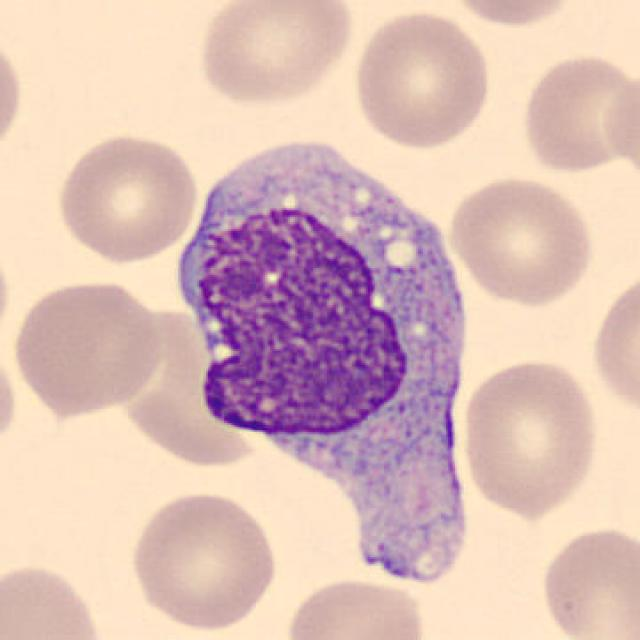Monocyte: (167, 114, 482, 554)
RBC: (457, 354, 603, 520), (7, 275, 167, 420), (124, 487, 281, 633), (115, 308, 258, 466), (348, 7, 496, 152), (444, 171, 598, 309), (51, 129, 202, 266), (193, 0, 357, 109), (518, 50, 636, 176), (535, 520, 638, 640), (281, 575, 430, 640), (0, 555, 110, 640), (587, 264, 638, 420), (441, 0, 583, 30), (0, 28, 27, 164)
